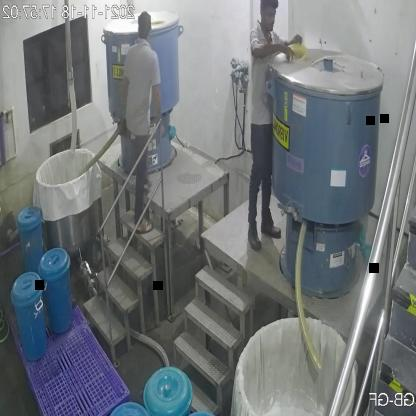no_shoes: (135, 216, 154, 237)
